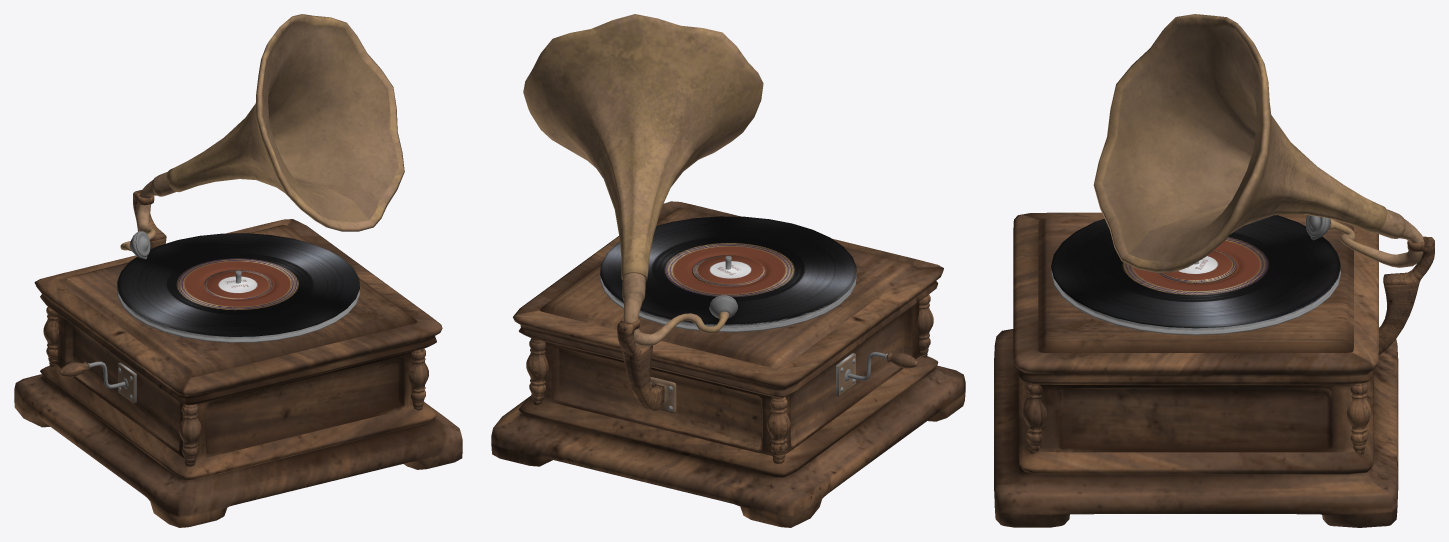
File: gramophone.fbx
The picture shows the model from 3 angles, left to right: view 1: azimuth 30°, elevation 25°; view 2: azimuth 150°, elevation 25°; view 3: azimuth 270°, elevation 25°; orthographic projection. The views are drawn at different scales.
Visible parts, largest first — view 1: gramophone, record, button; view 2: gramophone, record, button; view 3: gramophone, record.
Part boxes in pixels (<box>): gramophone: <box>14,14,462,527</box>; record: <box>117,233,359,342</box>; button: <box>59,361,125,388</box>; gramophone: <box>491,14,965,527</box>; record: <box>600,216,856,332</box>; button: <box>848,352,917,380</box>; gramophone: <box>994,14,1434,527</box>; record: <box>1051,215,1340,335</box>.
Bounding box in the file's own units: 57.95 × 61.1 × 52.55.
